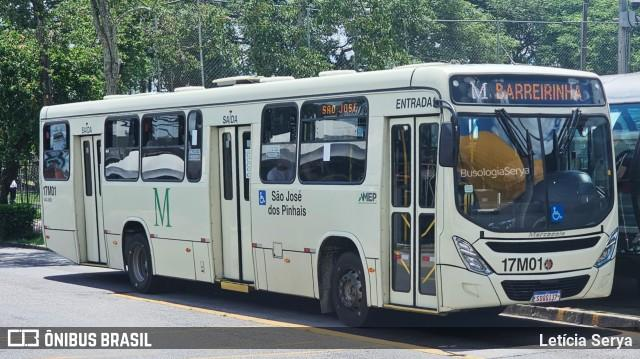BARREIRINHA: (492, 80, 588, 103)
